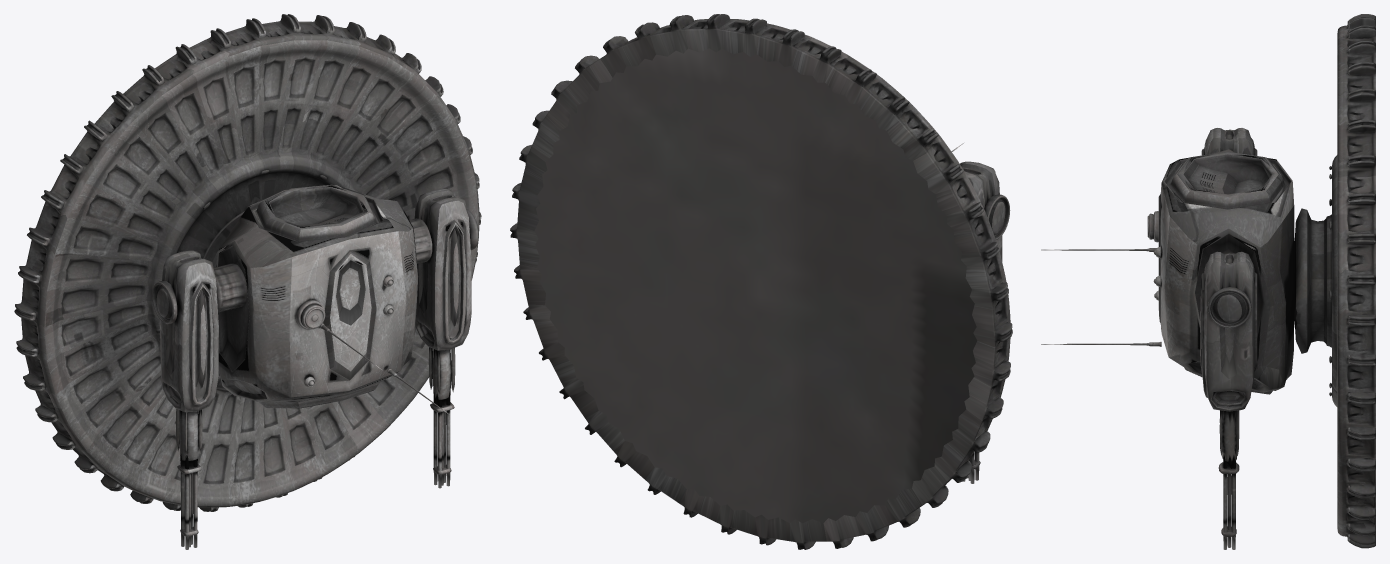
Rendered from turret.obj.
3 renders of one model, left to right at view 1: azimuth 30°, elevation 25°; view 2: azimuth 150°, elevation 25°; view 3: azimuth 270°, elevation 25°, orthographic. The views are drawn at different scales.
Parts seen in each view (by area): view 1: cannon; view 2: cannon; view 3: cannon.
Part boxes in pixels (x1=…): cannon: x1=14, y1=14, x2=481, y2=549; cannon: x1=510, y1=14, x2=1012, y2=549; cannon: x1=1041, y1=14, x2=1375, y2=549.
Size of the model in its own units: 1194 by 1194 by 748.
Materials: 1 (1 with a texture image).
